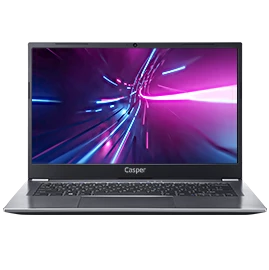laptop: (2, 38, 268, 220)
